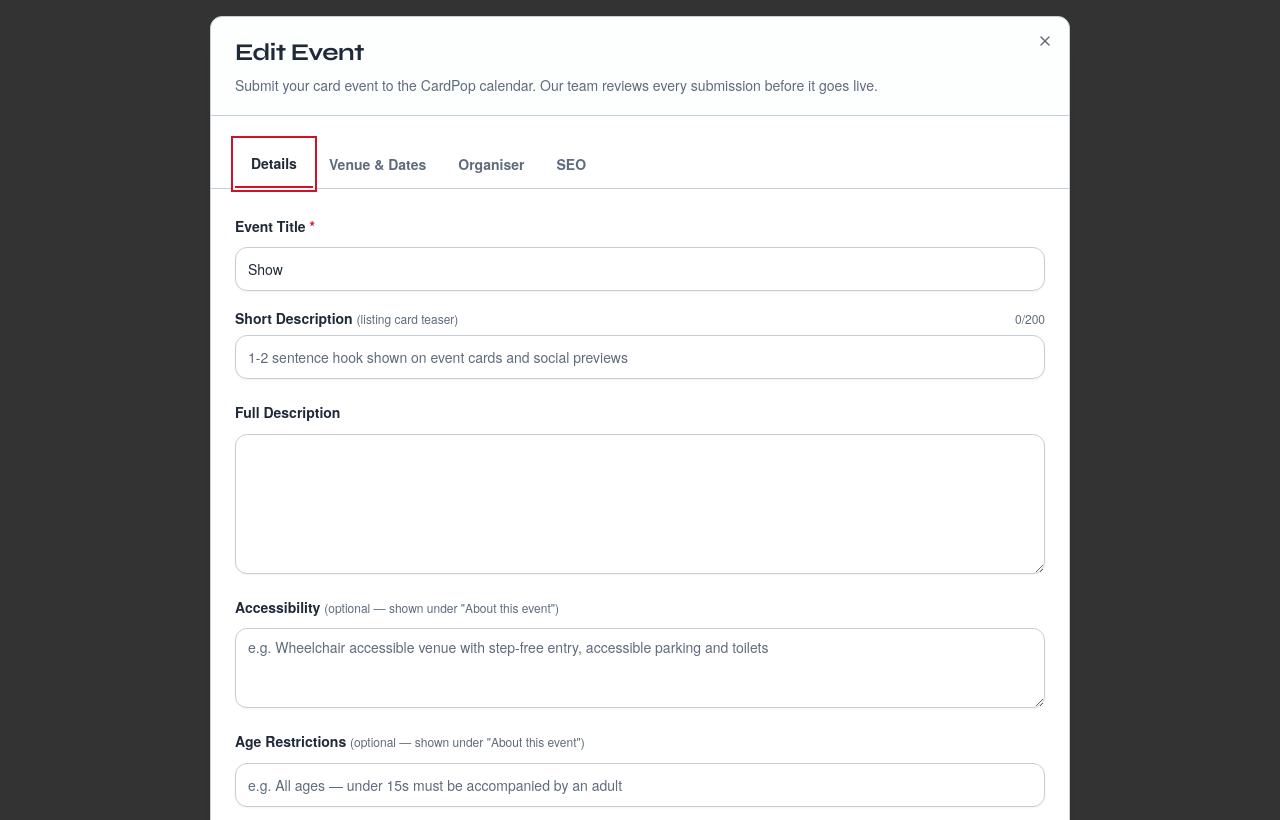
Test: EventFormModal — ticket prices › loads an existing event's ticket prices
This screenshot has width=1280, height=820.
Press the mouse on the tab "Organiser" at (491, 164), box [442,140,540,188]
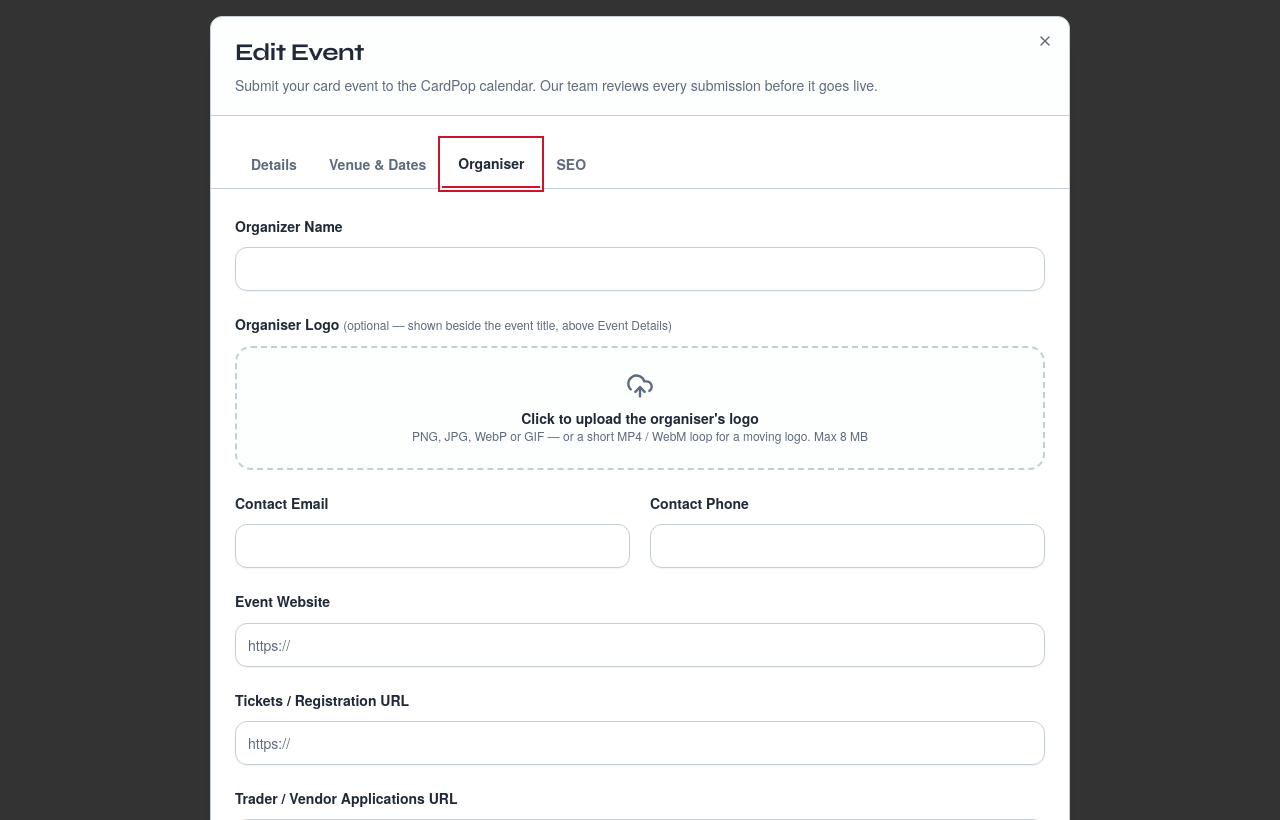
Click the tab "Organiser" at (491, 164), box [442,140,540,188]
(page scrolled)
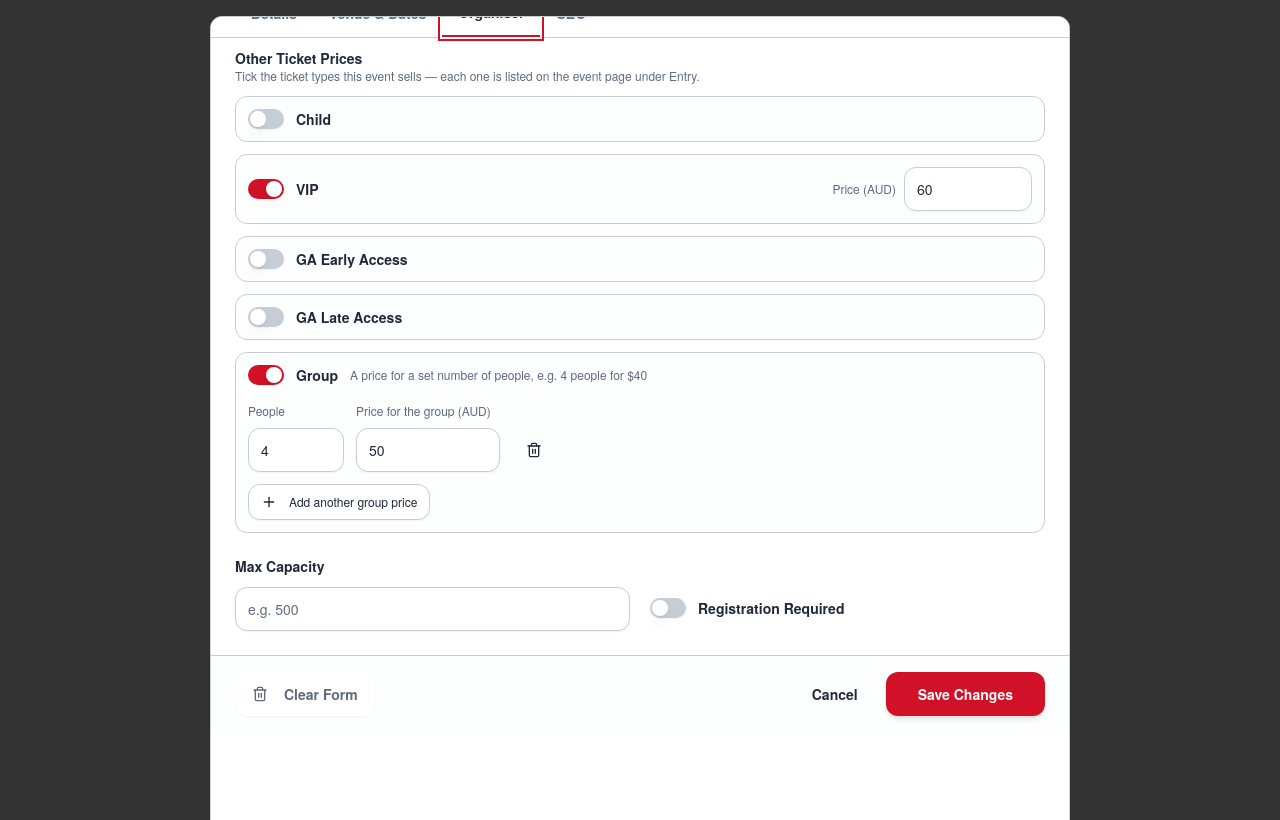
Now the number field labelled "Price (AUD)" holds "60", box [904,167,1032,211]
Now the number field labelled "People" holds "4", box [248,428,344,472]
Now the number field labelled "Price for the group (AUD)" holds "50", box [356,428,500,472]
